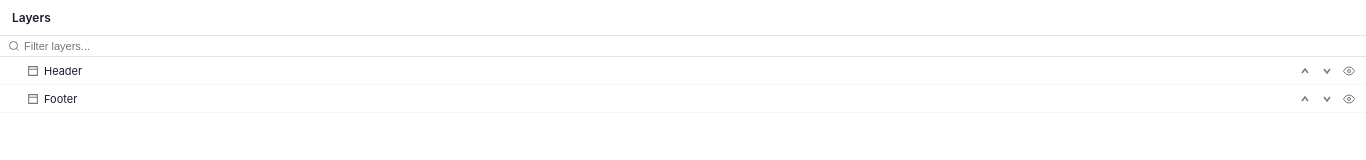
Test: LayerPanel › filters layers by search query
The width and height of the screenshot is (1366, 160).
Type "head" into the field with placeholder "Filter layers..." at coordinates (691, 46), box x1=24 y1=40 x2=1358 y2=52
Wait 200 ms
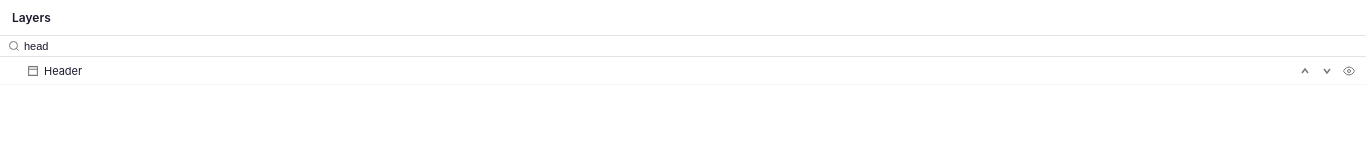
Check: the text "Header" is shown, box x1=44 y1=64 x2=82 y2=78
Check: the text "Footer" is gone
